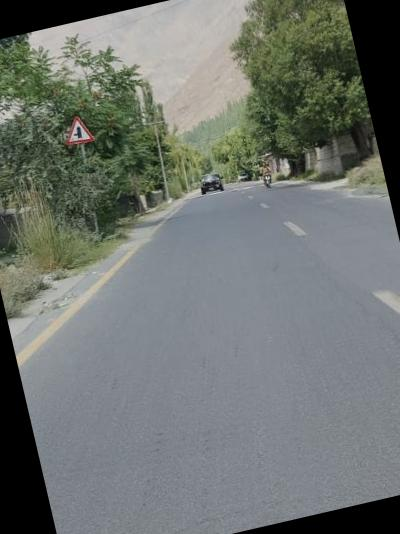sharp_turn: (128, 103, 400, 534)
